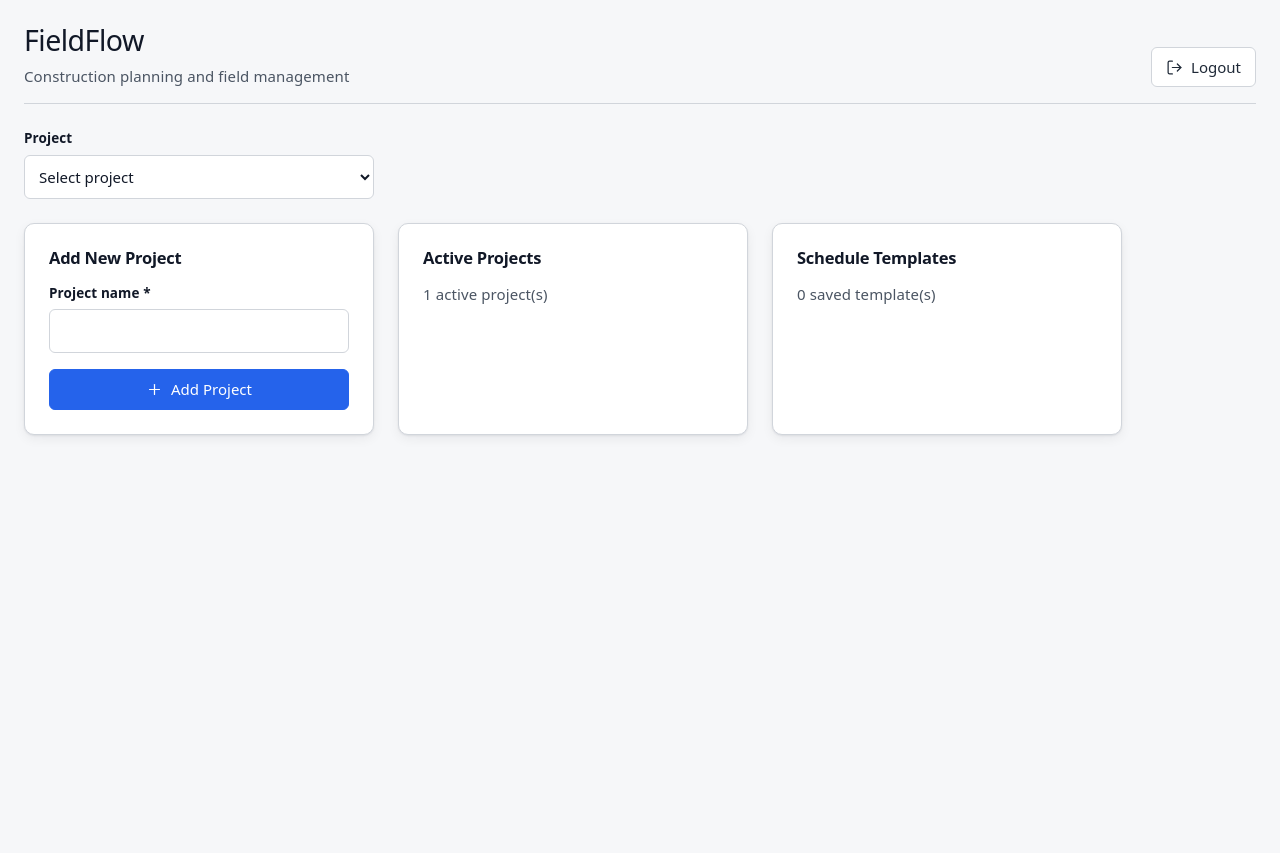
Test: App integration (hooks wiring) › lazy-routes to document search without issuing an initial search
Select "Riverside" in the dropdown labelled "Project" at (199, 176), box [24,154,374,198]
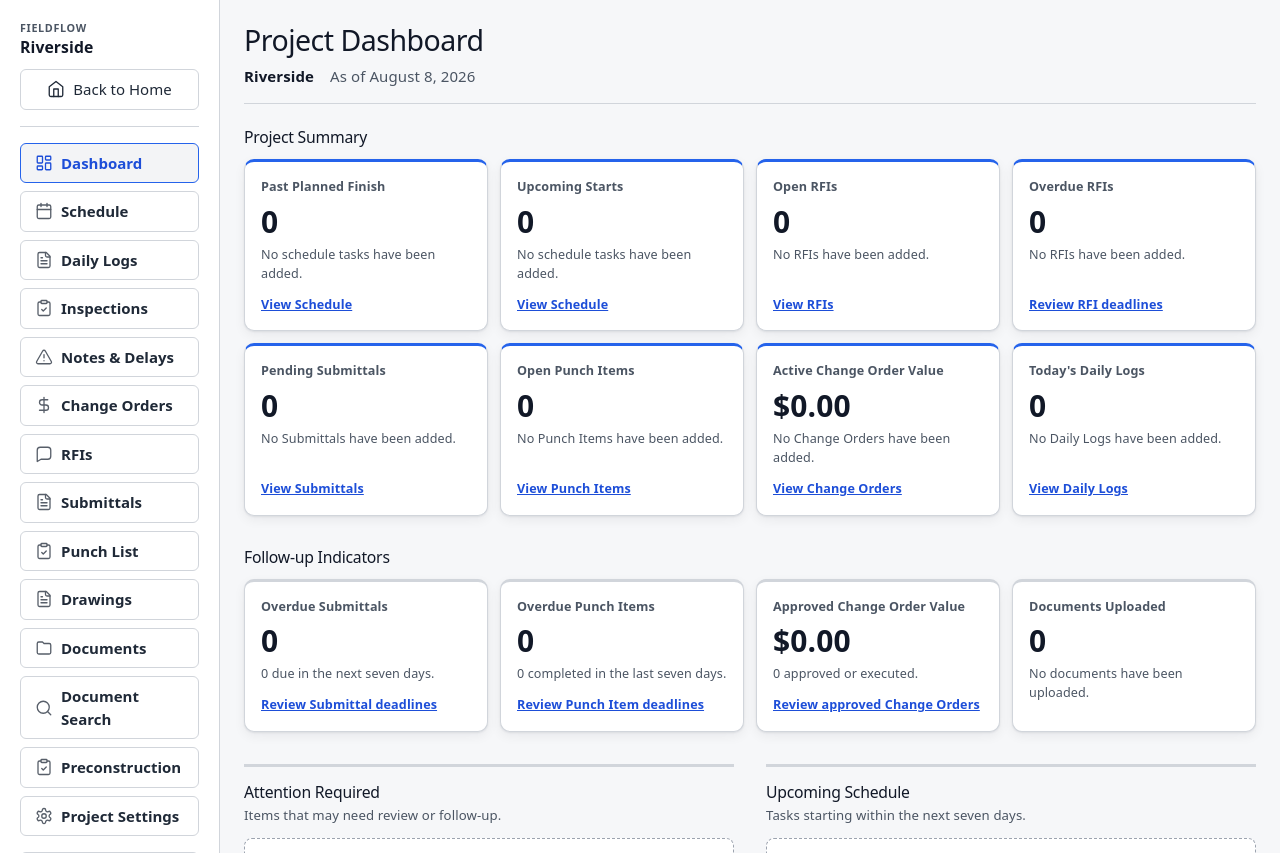
Now the heading "Project Dashboard" is shown, box [244,24,484,57]
Click the button "Document Search" at (110, 708), box [20,676,199,739]
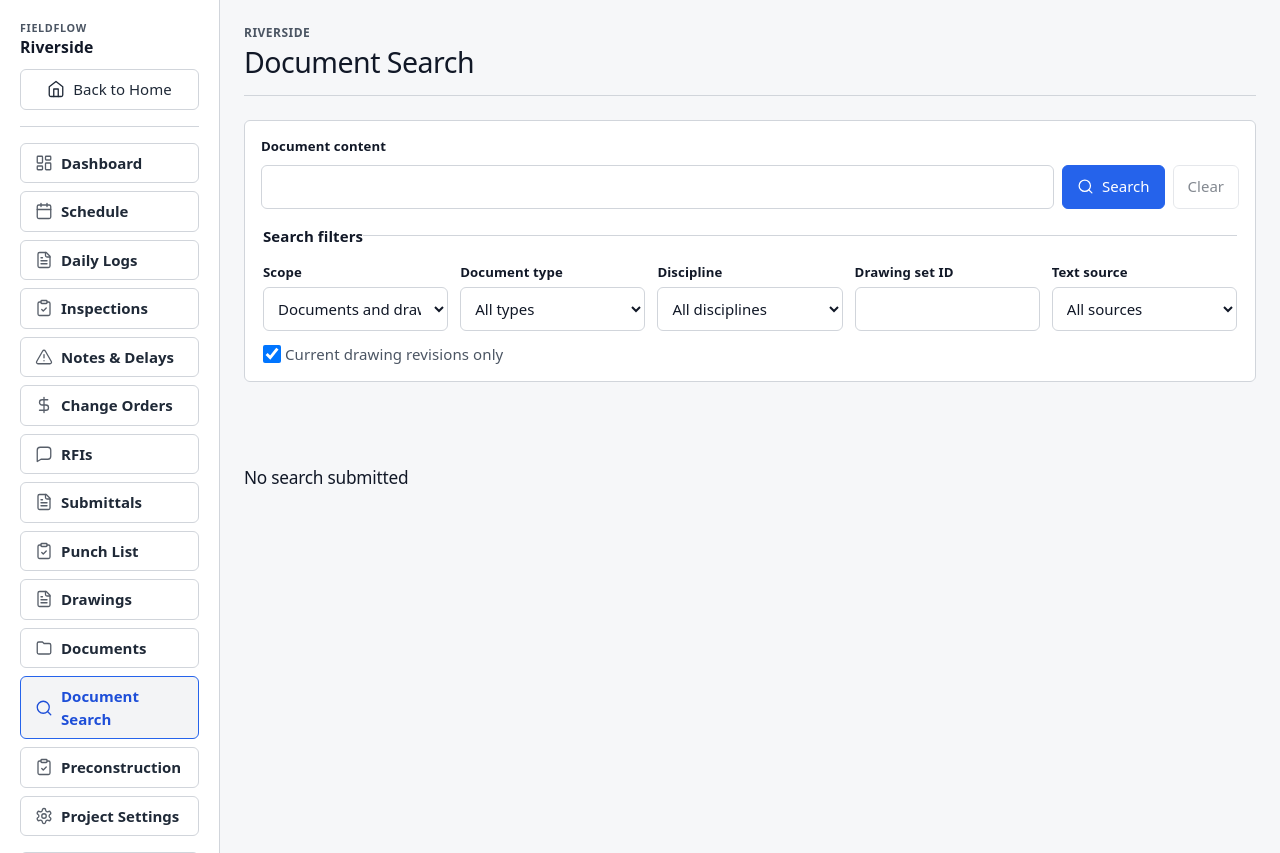
Now the heading "Document Search" is shown, box [244,46,474,79]
